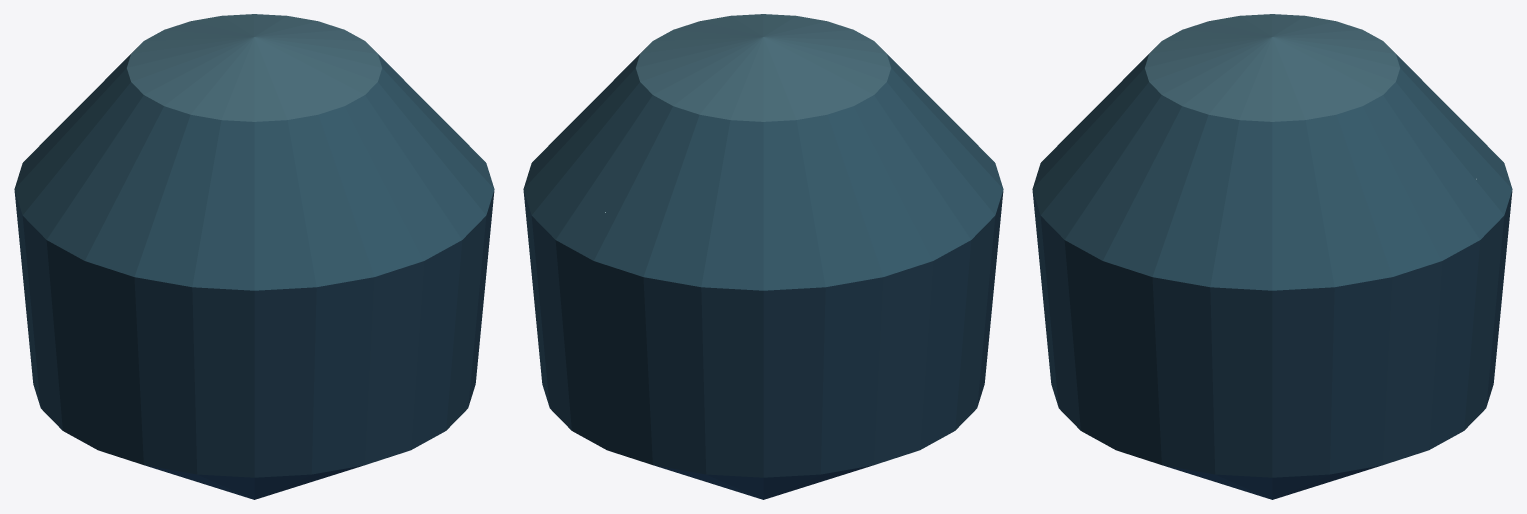
The model's file is sky_underwater_night.glb.
The picture shows the model from 3 angles, left to right: view 1: azimuth 30°, elevation 25°; view 2: azimuth 150°, elevation 25°; view 3: azimuth 270°, elevation 25°; orthographic projection.
Parts seen in each view (by area): view 1: skyband2, skyband1, skyband0, skyband3; view 2: skyband2, skyband1, skyband0, skyband3; view 3: skyband2, skyband1, skyband0, skyband3.
Boxes of the visible parts, box(x1,y1,x2,y2) form: skyband2: box(14, 191, 494, 477); skyband1: box(14, 47, 494, 290); skyband0: box(127, 14, 381, 121); skyband3: box(145, 465, 363, 499); skyband2: box(523, 191, 1003, 477); skyband1: box(523, 47, 1003, 290); skyband0: box(636, 14, 890, 121); skyband3: box(654, 465, 872, 499); skyband2: box(1032, 191, 1512, 477); skyband1: box(1032, 47, 1512, 290); skyband0: box(1145, 14, 1399, 121); skyband3: box(1163, 465, 1381, 499).
Size of the model in its own units: 169 by 180 by 169.
